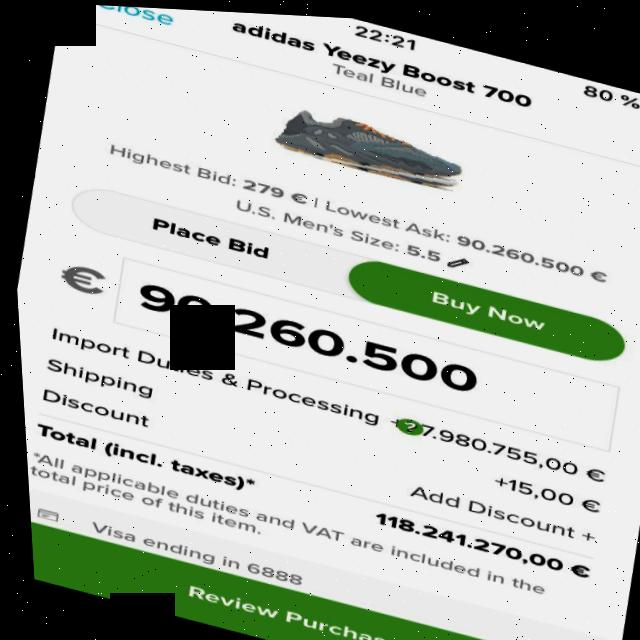shoe: (266, 98, 468, 194)
